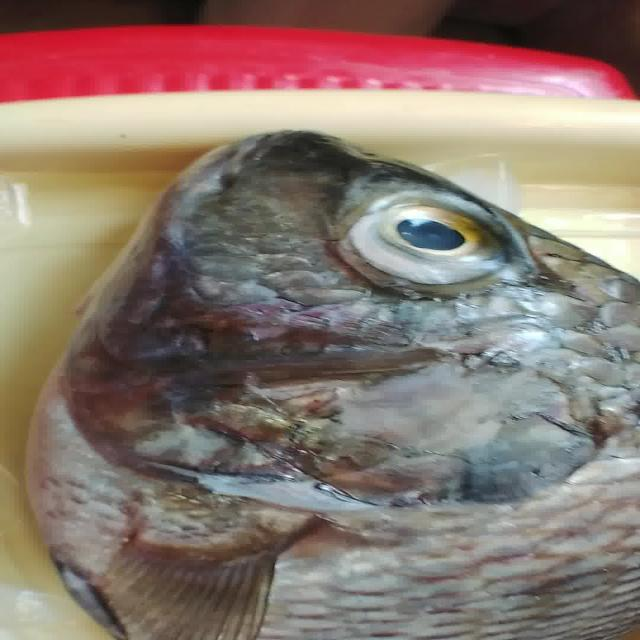Fresh: (322, 184, 542, 294)
